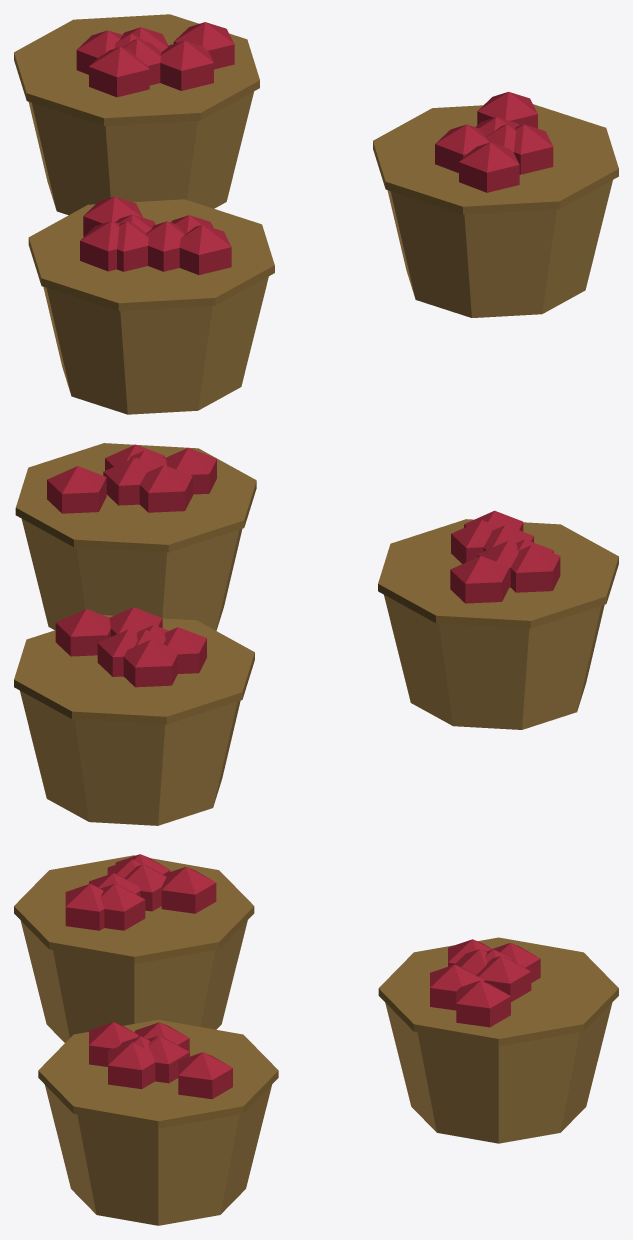
File: pile_berries_1.glb
3 views of the same model, one above another, from view 1: azimuth 30°, elevation 25°; view 2: azimuth 150°, elevation 25°; view 3: azimuth 270°, elevation 25° (orthographic). The views are drawn at different scales.
Parts seen in each view (by area): view 1: pile_berries_1; view 2: pile_berries_1; view 3: pile_berries_1.
Part boxes in pixels (<box>): pile_berries_1: <box>14,14,618,414</box>; pile_berries_1: <box>14,443,618,825</box>; pile_berries_1: <box>14,854,618,1225</box>.
Size of the model in its own units: 1.29 by 0.348 by 1.24.
